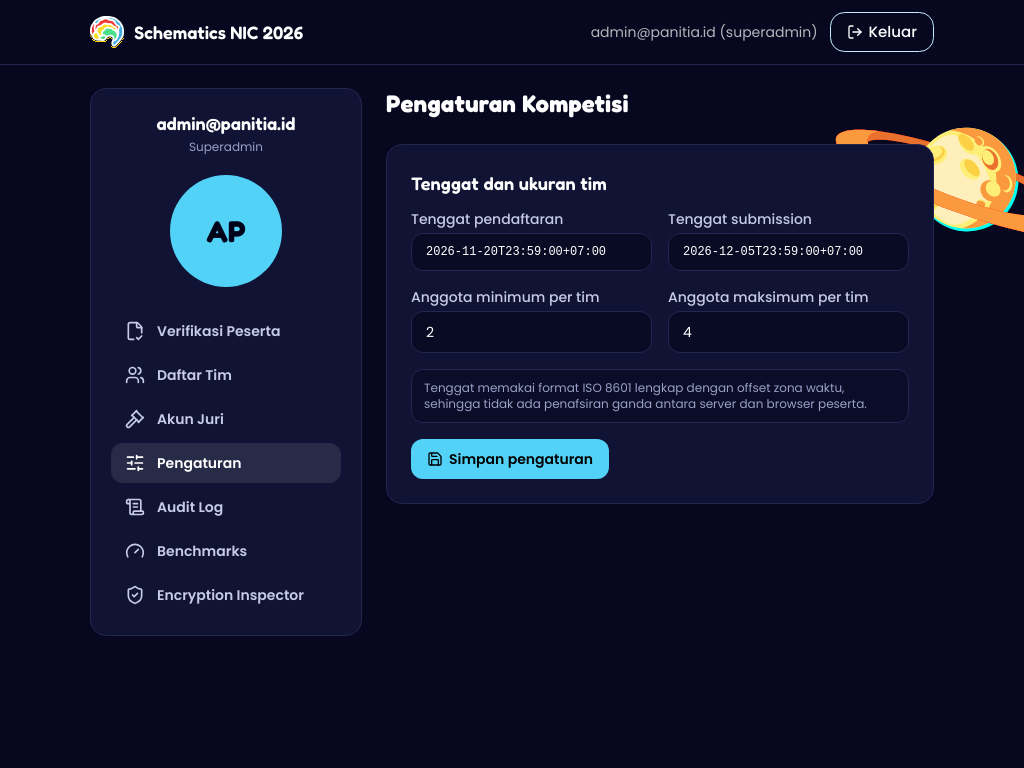
Superadmin competition settings › refuses a minimum team size above the maximum before sending it
Replace the text in the number field with test id "min-team-size-input" with "9" at (532, 332), box [411,311,652,353]
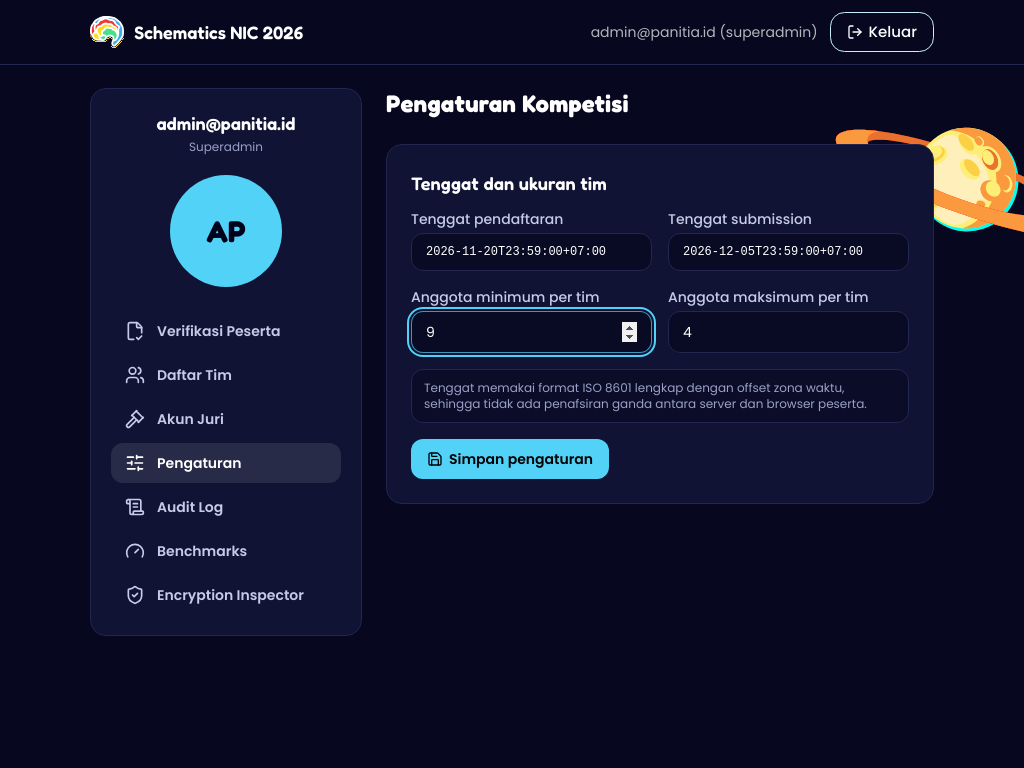
Click the button with test id "save-settings-btn" at (510, 459), box [411,439,609,479]
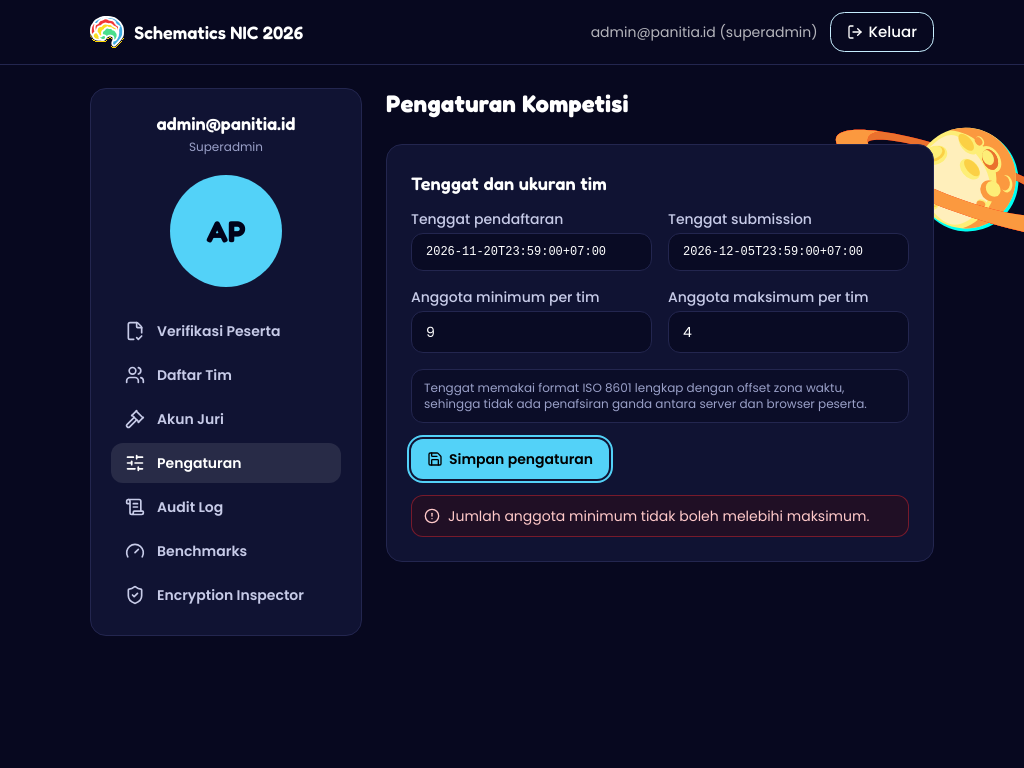
Now the message with test id "settings-error" shows "maksimum", box [448,506,869,526]
